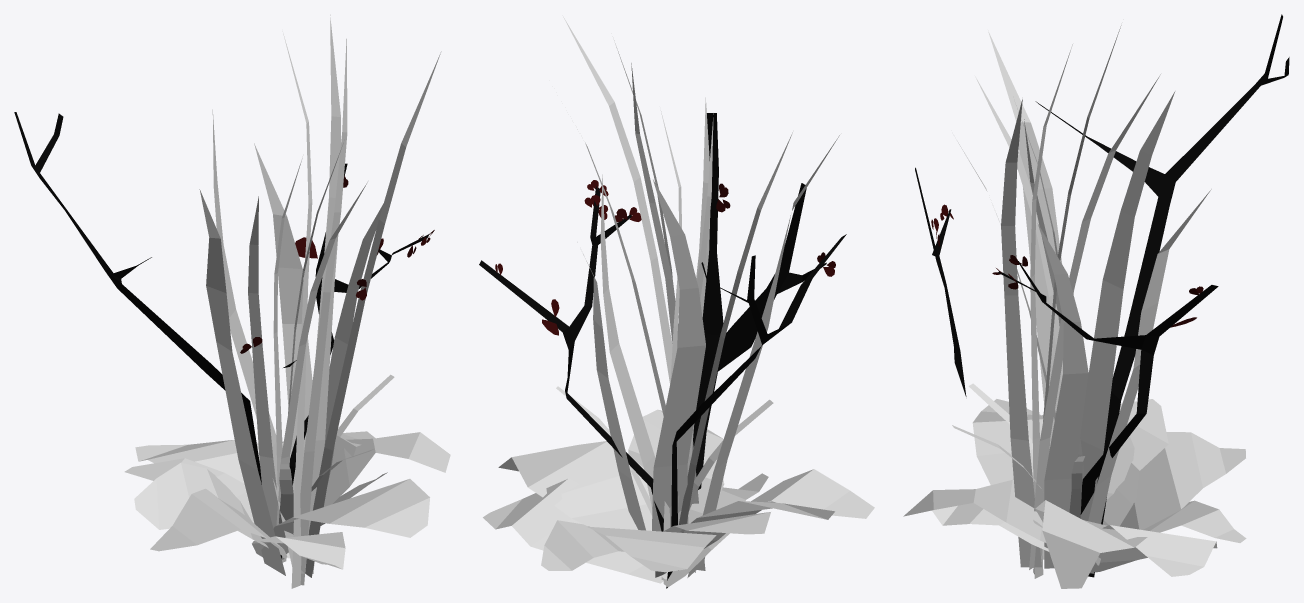
Rendered from bushes.fbx.
The picture shows the model from 3 angles, left to right: view 1: azimuth 30°, elevation 25°; view 2: azimuth 150°, elevation 25°; view 3: azimuth 270°, elevation 25°; orthographic projection. The views are drawn at different scales.
Parts seen in each view (by area): view 1: bush_3, bush_1, bush_2; view 2: bush_1, bush_3, bush_2; view 3: bush_3, bush_1, bush_2.
Boxes of the visible parts, <box> form: bush_3: <box>199,14,441,588</box>; bush_1: <box>124,374,450,569</box>; bush_2: <box>14,112,434,558</box>; bush_1: <box>483,386,874,587</box>; bush_3: <box>562,15,839,580</box>; bush_2: <box>479,113,846,588</box>; bush_3: <box>957,25,1211,578</box>; bush_1: <box>903,383,1246,588</box>; bush_2: <box>915,14,1289,577</box>.
Bounding box in the file's own units: 66.99 × 97.47 × 59.72.
